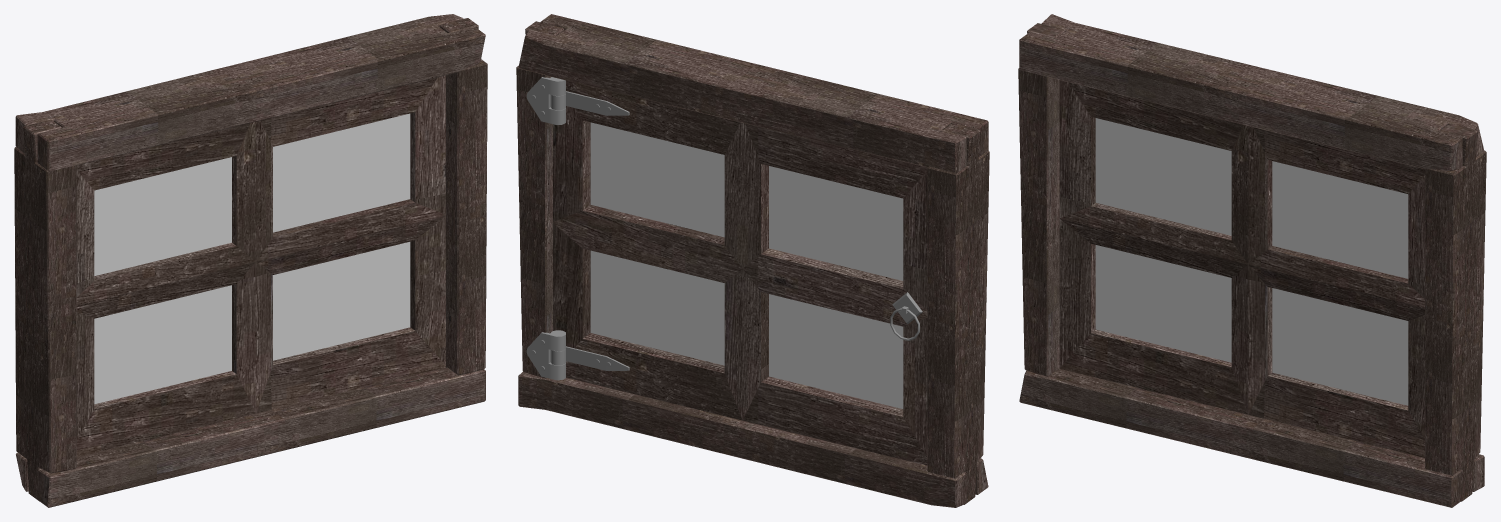
Rendered from window.FBX.
3 views of the same model, side by side, from view 1: azimuth 30°, elevation 25°; view 2: azimuth 150°, elevation 25°; view 3: azimuth 330°, elevation 25° (orthographic).
Visible parts, largest first — view 1: Box127, Plane001, Box126, Box125, Box123, Box124; view 2: Box127, Plane001, Box126, Box125, Box123, Box124, Cylinder031, Cylinder038, Cylinder042, Cylinder035; view 3: Box127, Plane001, Box126, Box123, Box124, Box125.
Boxes of the visible parts, box(x1,y1,x2,y2) form: Box127: box(76, 75, 445, 456); Plane001: box(94, 113, 410, 404); Box126: box(15, 14, 485, 171); Box125: box(14, 119, 76, 501); Box123: box(16, 367, 485, 507); Box124: box(439, 18, 487, 375); Box127: box(553, 80, 927, 465); Plane001: box(590, 122, 903, 408); Box126: box(518, 14, 988, 173); Box125: box(927, 123, 989, 504); Box123: box(518, 371, 988, 507); Box124: box(516, 21, 564, 378); Cylinder031: box(526, 330, 565, 380); Cylinder038: box(526, 77, 565, 124); Cylinder042: box(550, 91, 629, 115); Cylinder035: box(550, 346, 629, 370); Box127: box(1059, 80, 1424, 457); Plane001: box(1095, 118, 1408, 405); Box126: box(1019, 14, 1484, 171); Box123: box(1019, 369, 1484, 507); Box124: box(1425, 123, 1486, 501); Box125: box(1018, 23, 1064, 376).
Bounding box in the file's own units: 11.7 × 9.32 × 1.58.
